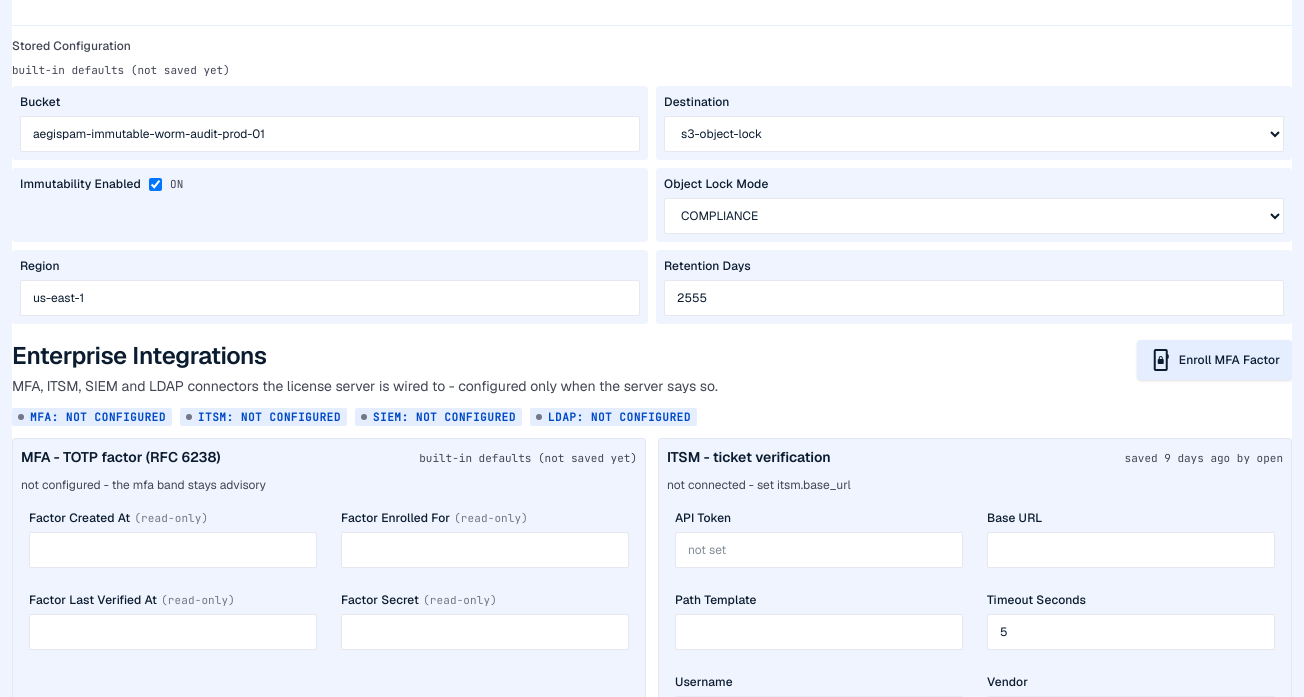
MFA enroll (screen 11, ADR-0015 11.4 - the legacy-wired action) › mints the factor and shows the secret box exactly once (verbatim 201)
(page scrolled)
Expected: the text "not connected - set itsm.base_url" is shown, [667, 477, 851, 493]
Click the button "Enroll MFA Factor" at (1214, 360), box [1137, 340, 1292, 380]
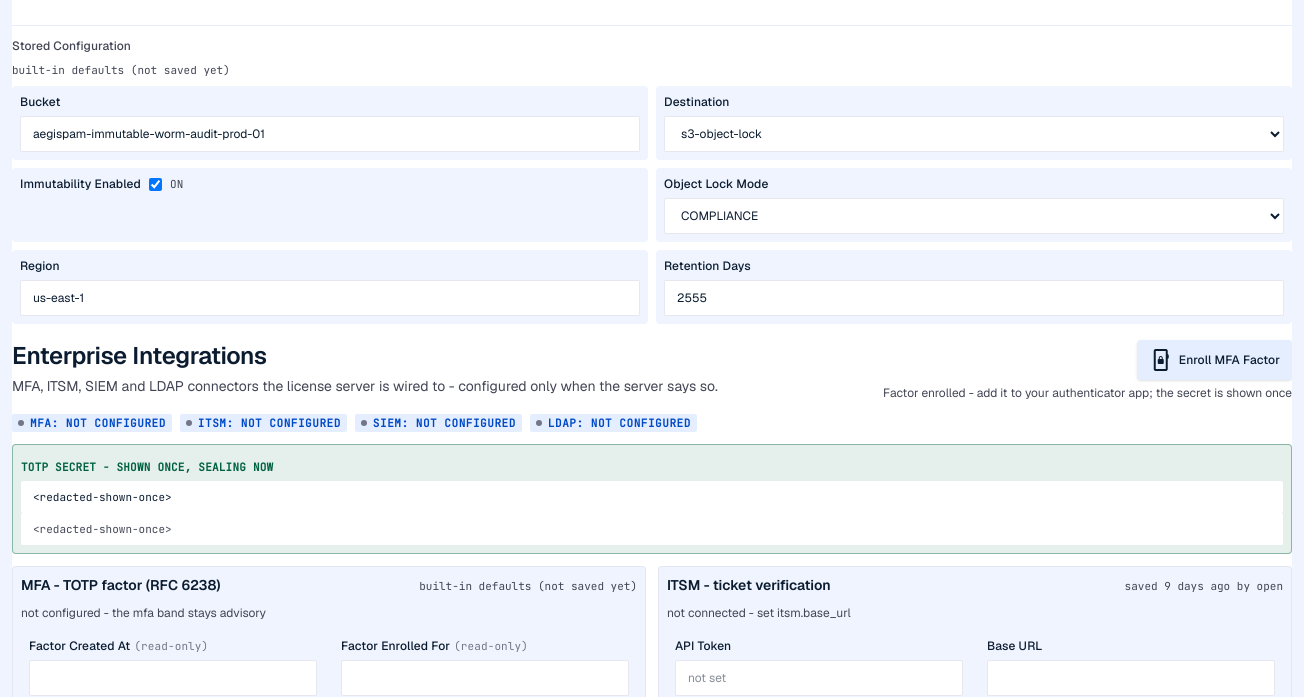
Expected: the text "Factor enrolled - add it to your authenticator app; the secret is shown once" is shown, [883, 384, 1292, 402]
